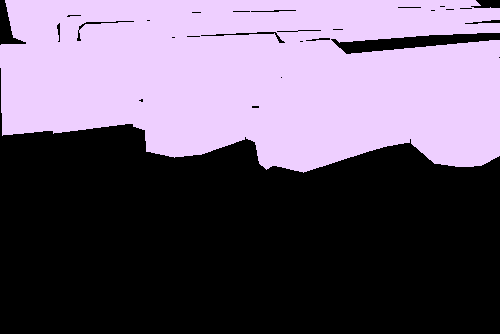Train: (133, 39, 500, 157), (246, 55, 500, 173), (0, 33, 279, 136), (46, 39, 349, 133), (5, 0, 481, 44), (60, 5, 474, 44), (79, 7, 500, 43), (410, 72, 500, 167), (276, 22, 500, 44)
